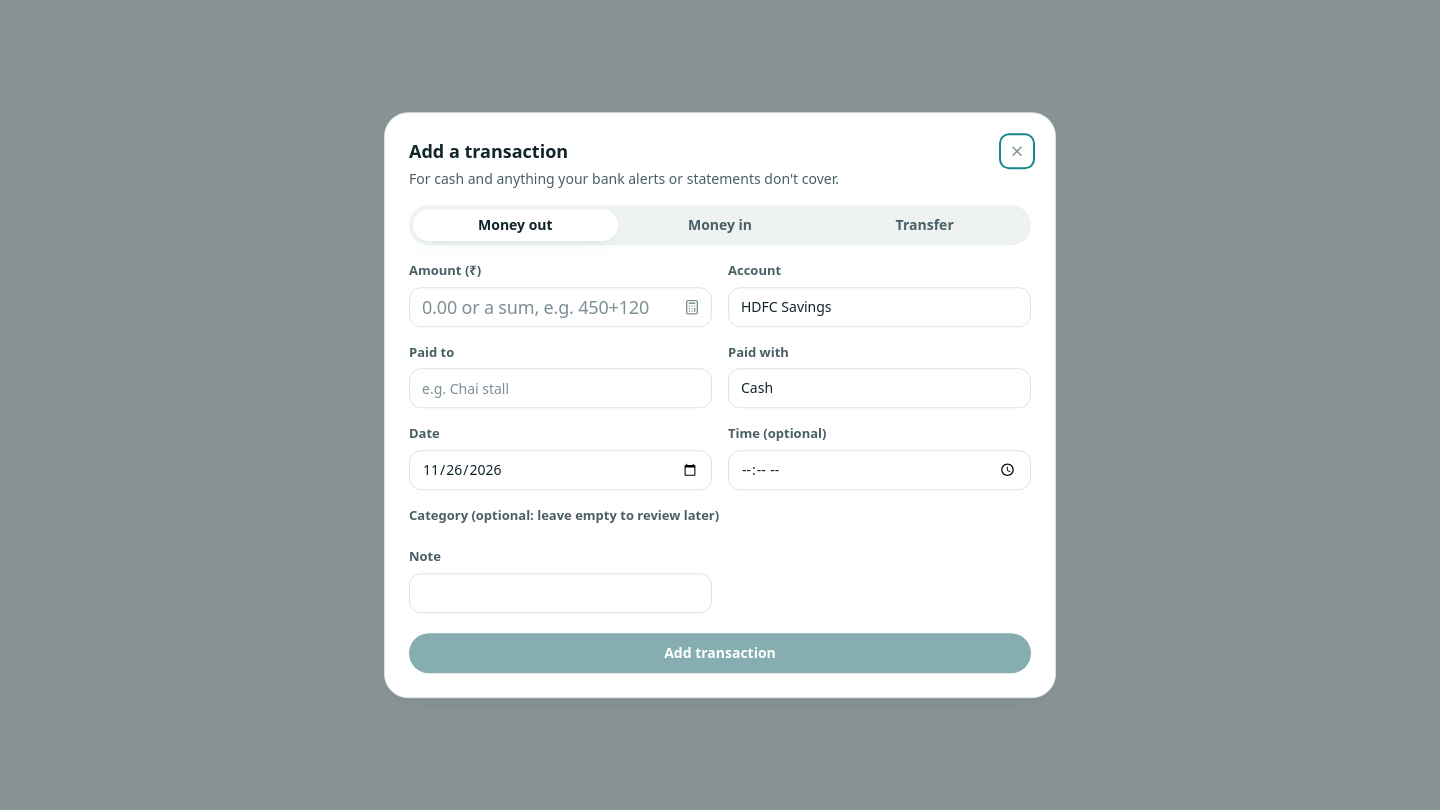
Test: transfer between own accounts › asks for a second account when there's only one
The width and height of the screenshot is (1440, 810).
What coordinates should you click on to do the following:
click the radio button labelled "Transfer"
I would click on:
 (925, 225)
Its box is [822,209,1027,241].
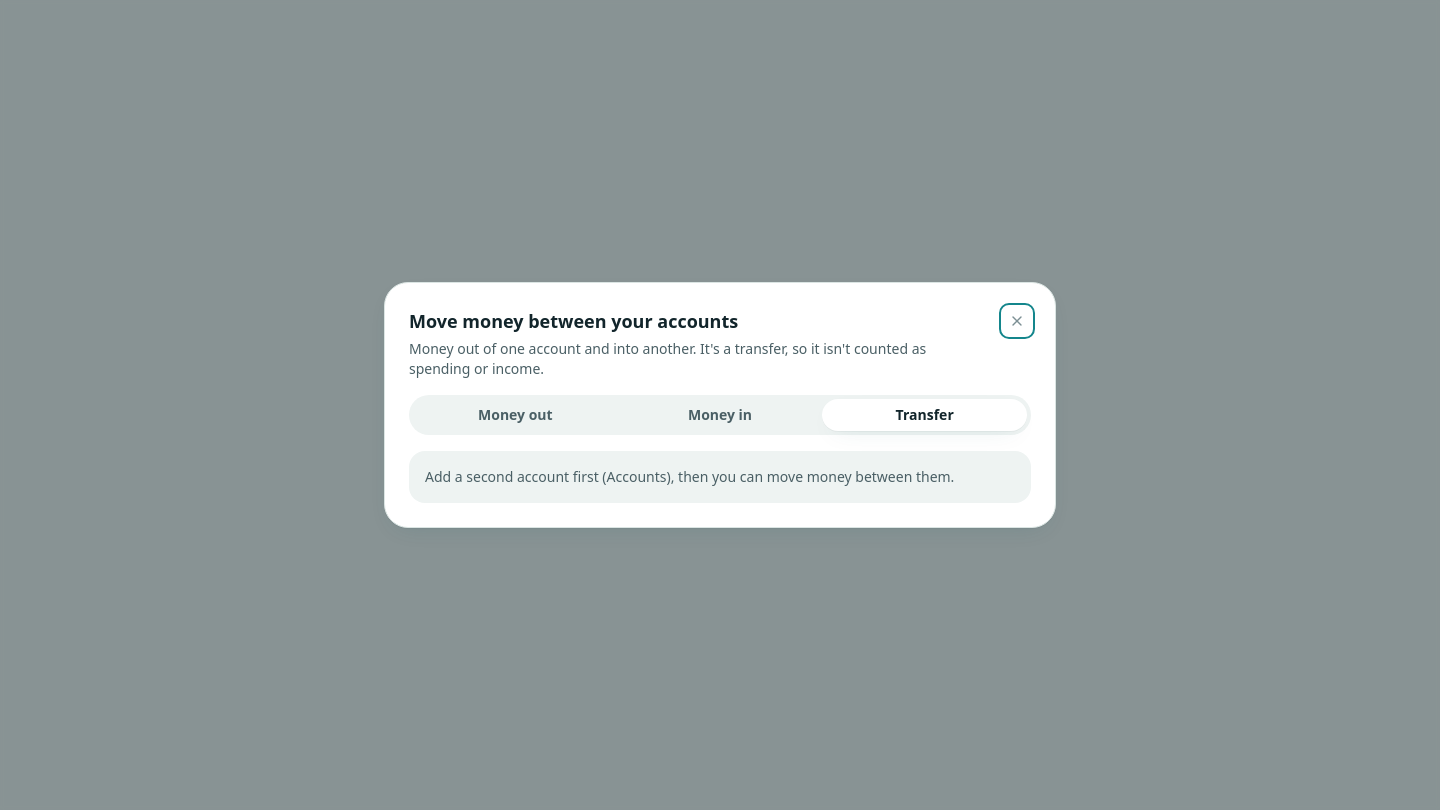
expect the text "Add a second account first" is shown: met, box [425,467,954,486]
